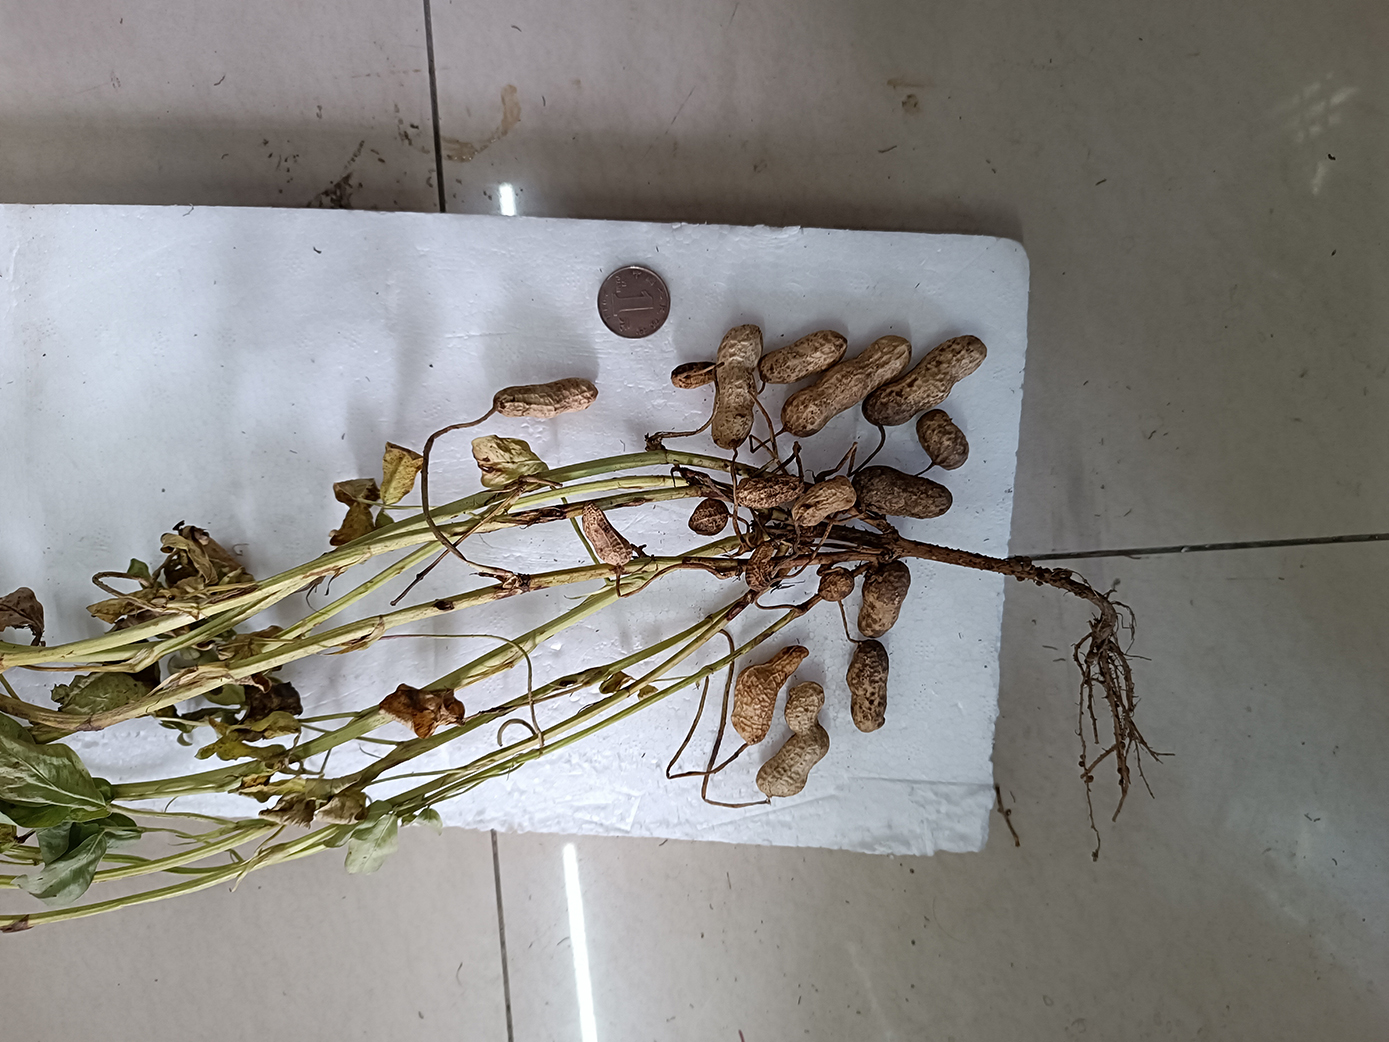h: (782, 336, 913, 438), (863, 336, 991, 426), (752, 680, 831, 797), (732, 645, 810, 744), (713, 326, 762, 448), (759, 329, 849, 385), (495, 378, 598, 419), (858, 560, 911, 639), (847, 640, 891, 733), (792, 475, 857, 528), (582, 503, 632, 571), (736, 475, 803, 508), (688, 498, 728, 535), (670, 362, 717, 390), (820, 568, 854, 603)
l: (853, 465, 954, 519), (917, 412, 968, 472)
